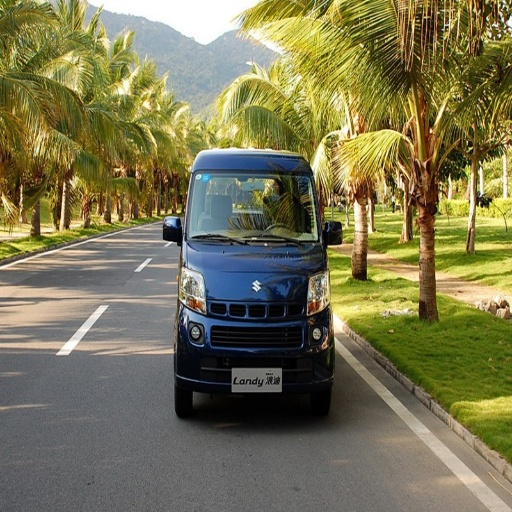front_bumper: (175, 273, 332, 412)
hood: (185, 238, 322, 274)
